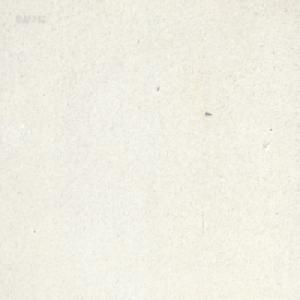Nail: (205, 111, 211, 116)
